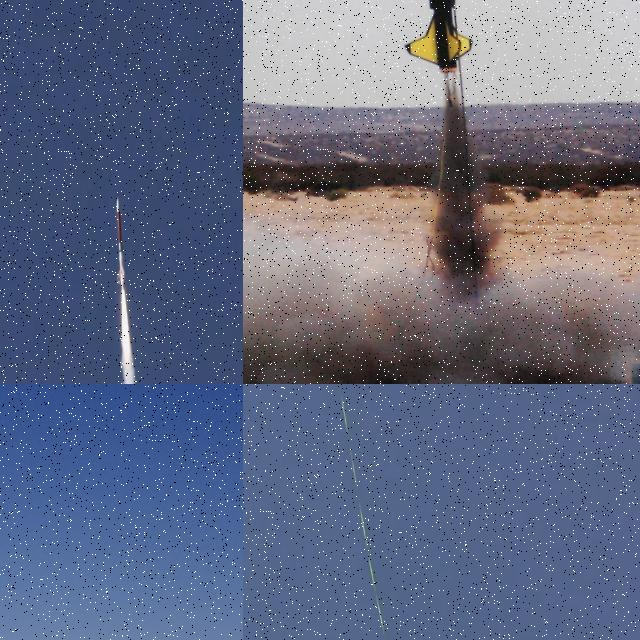Rocket: (402, 0, 474, 75), (115, 197, 126, 284)
